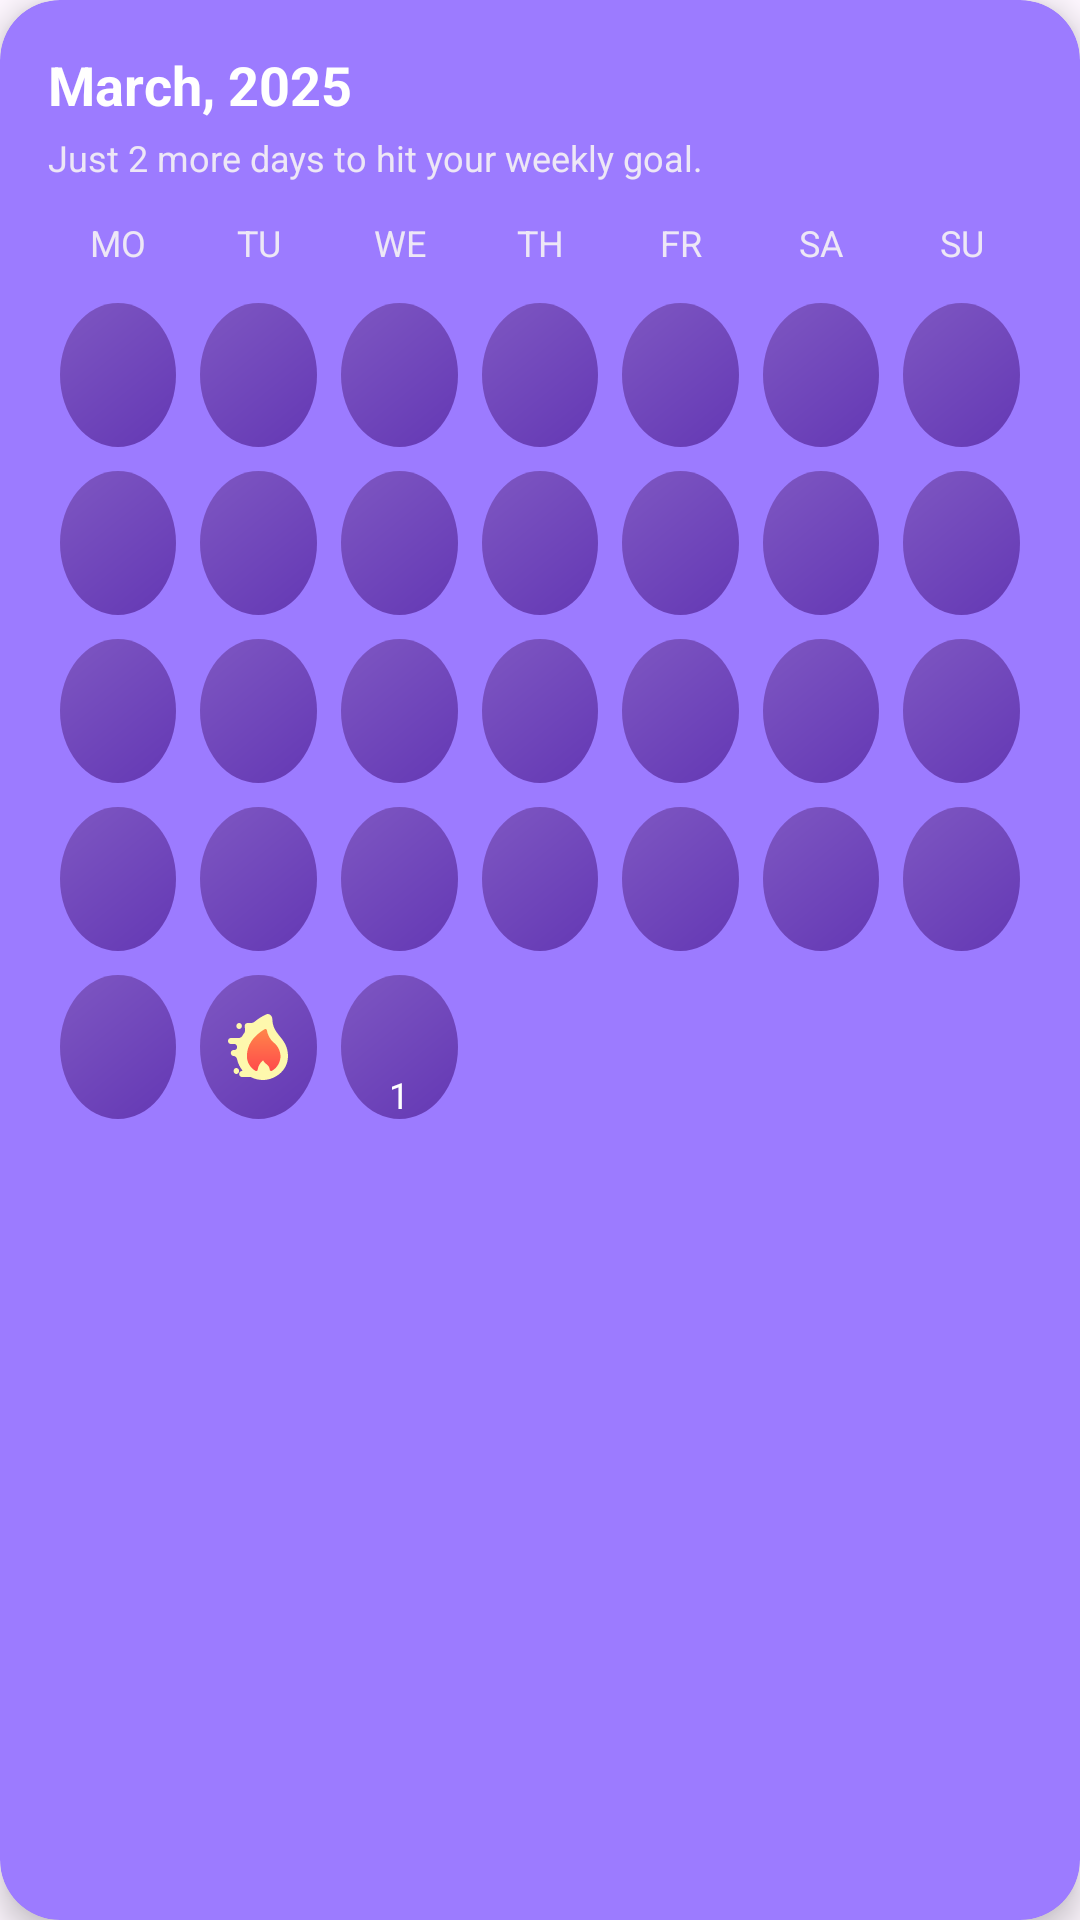

Screen size 1080x1920. Icon name, then its center in pixels as point (x, y):
streak on: point (258, 1047)
